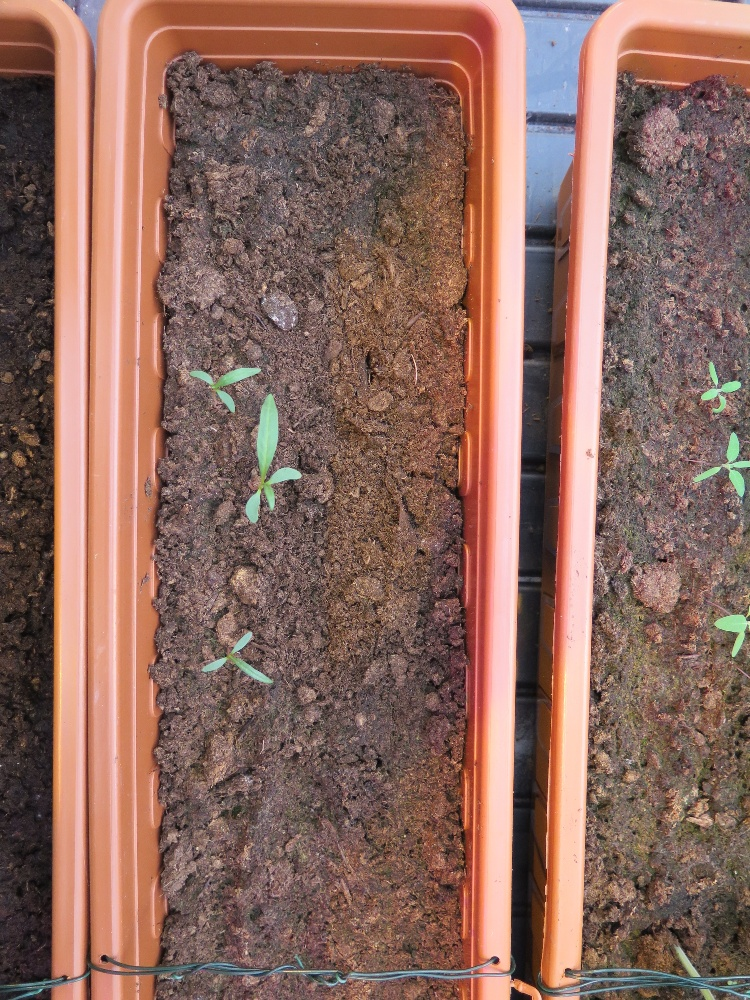weed: (236, 387, 306, 530), (191, 612, 285, 700), (191, 348, 276, 427), (706, 421, 750, 503), (682, 357, 736, 418), (718, 584, 750, 666)
